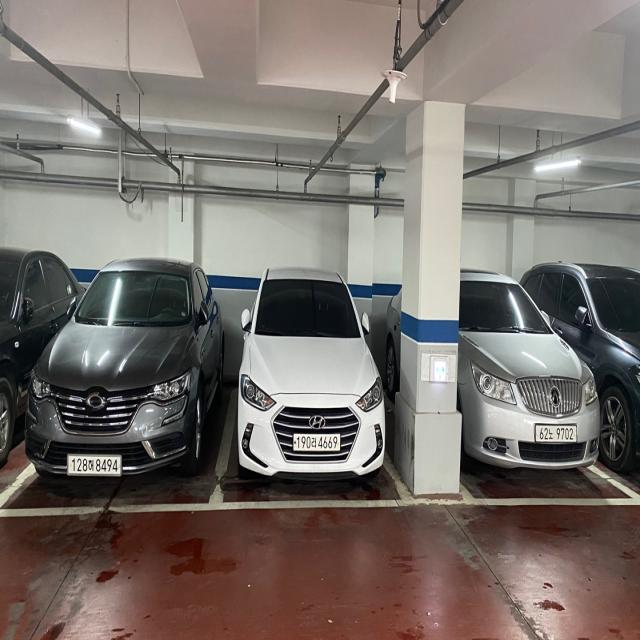occupied: (24, 257, 214, 483), (236, 267, 392, 479), (462, 266, 601, 470)
